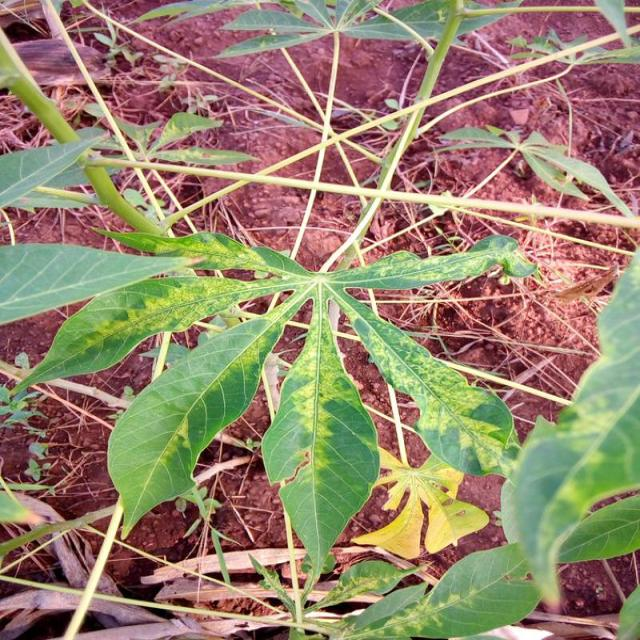cassava leaf: (499, 243, 638, 609), (105, 311, 282, 540), (326, 280, 520, 478), (260, 302, 380, 577)
